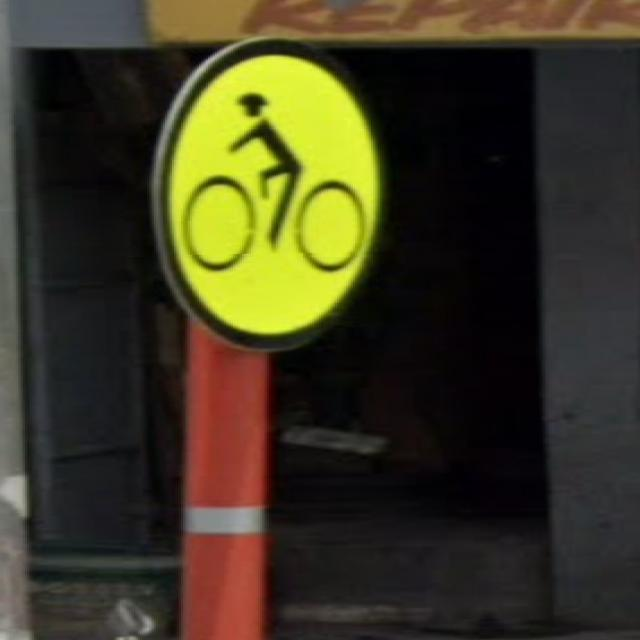bike lane: (147, 37, 382, 351)
